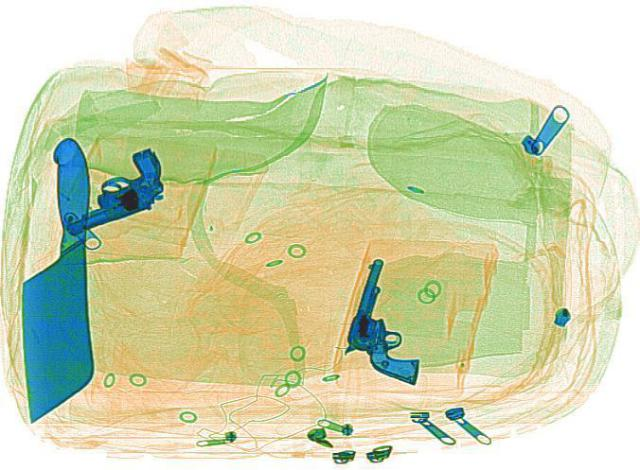Gun: (328, 254, 454, 381), (32, 143, 188, 235)
Knife: (2, 135, 110, 421)
